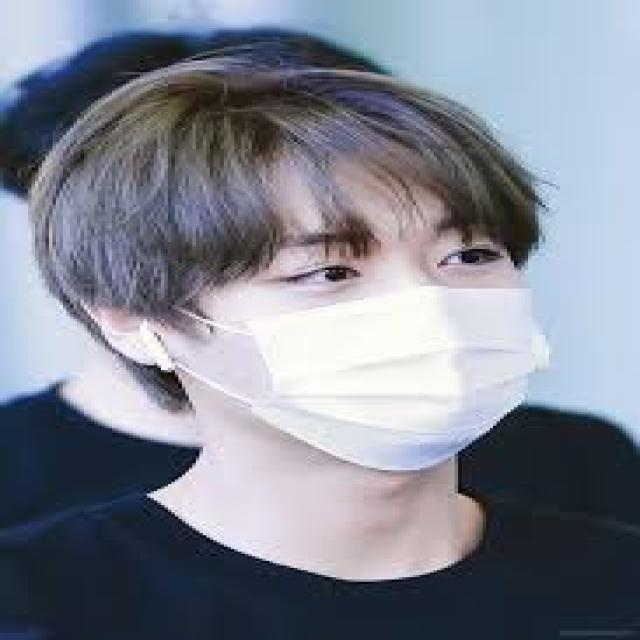earphone: (133, 307, 172, 390)
